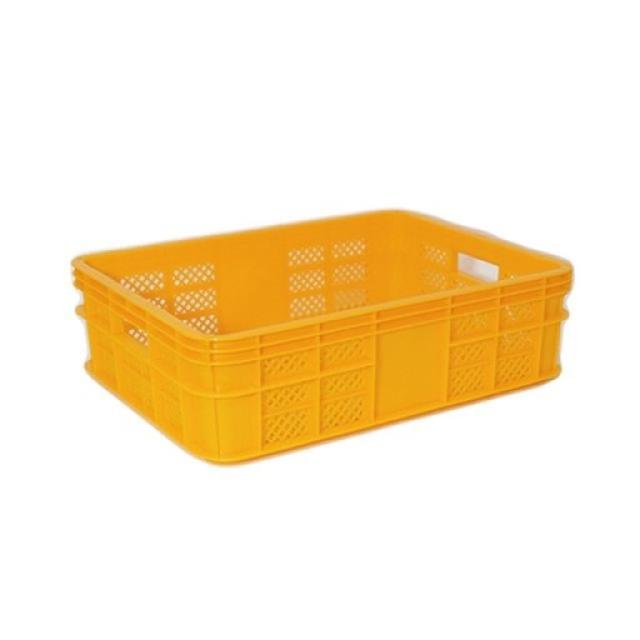basket: (59, 138, 599, 493)
